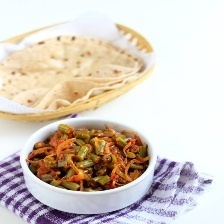roti: (0, 34, 147, 115)
